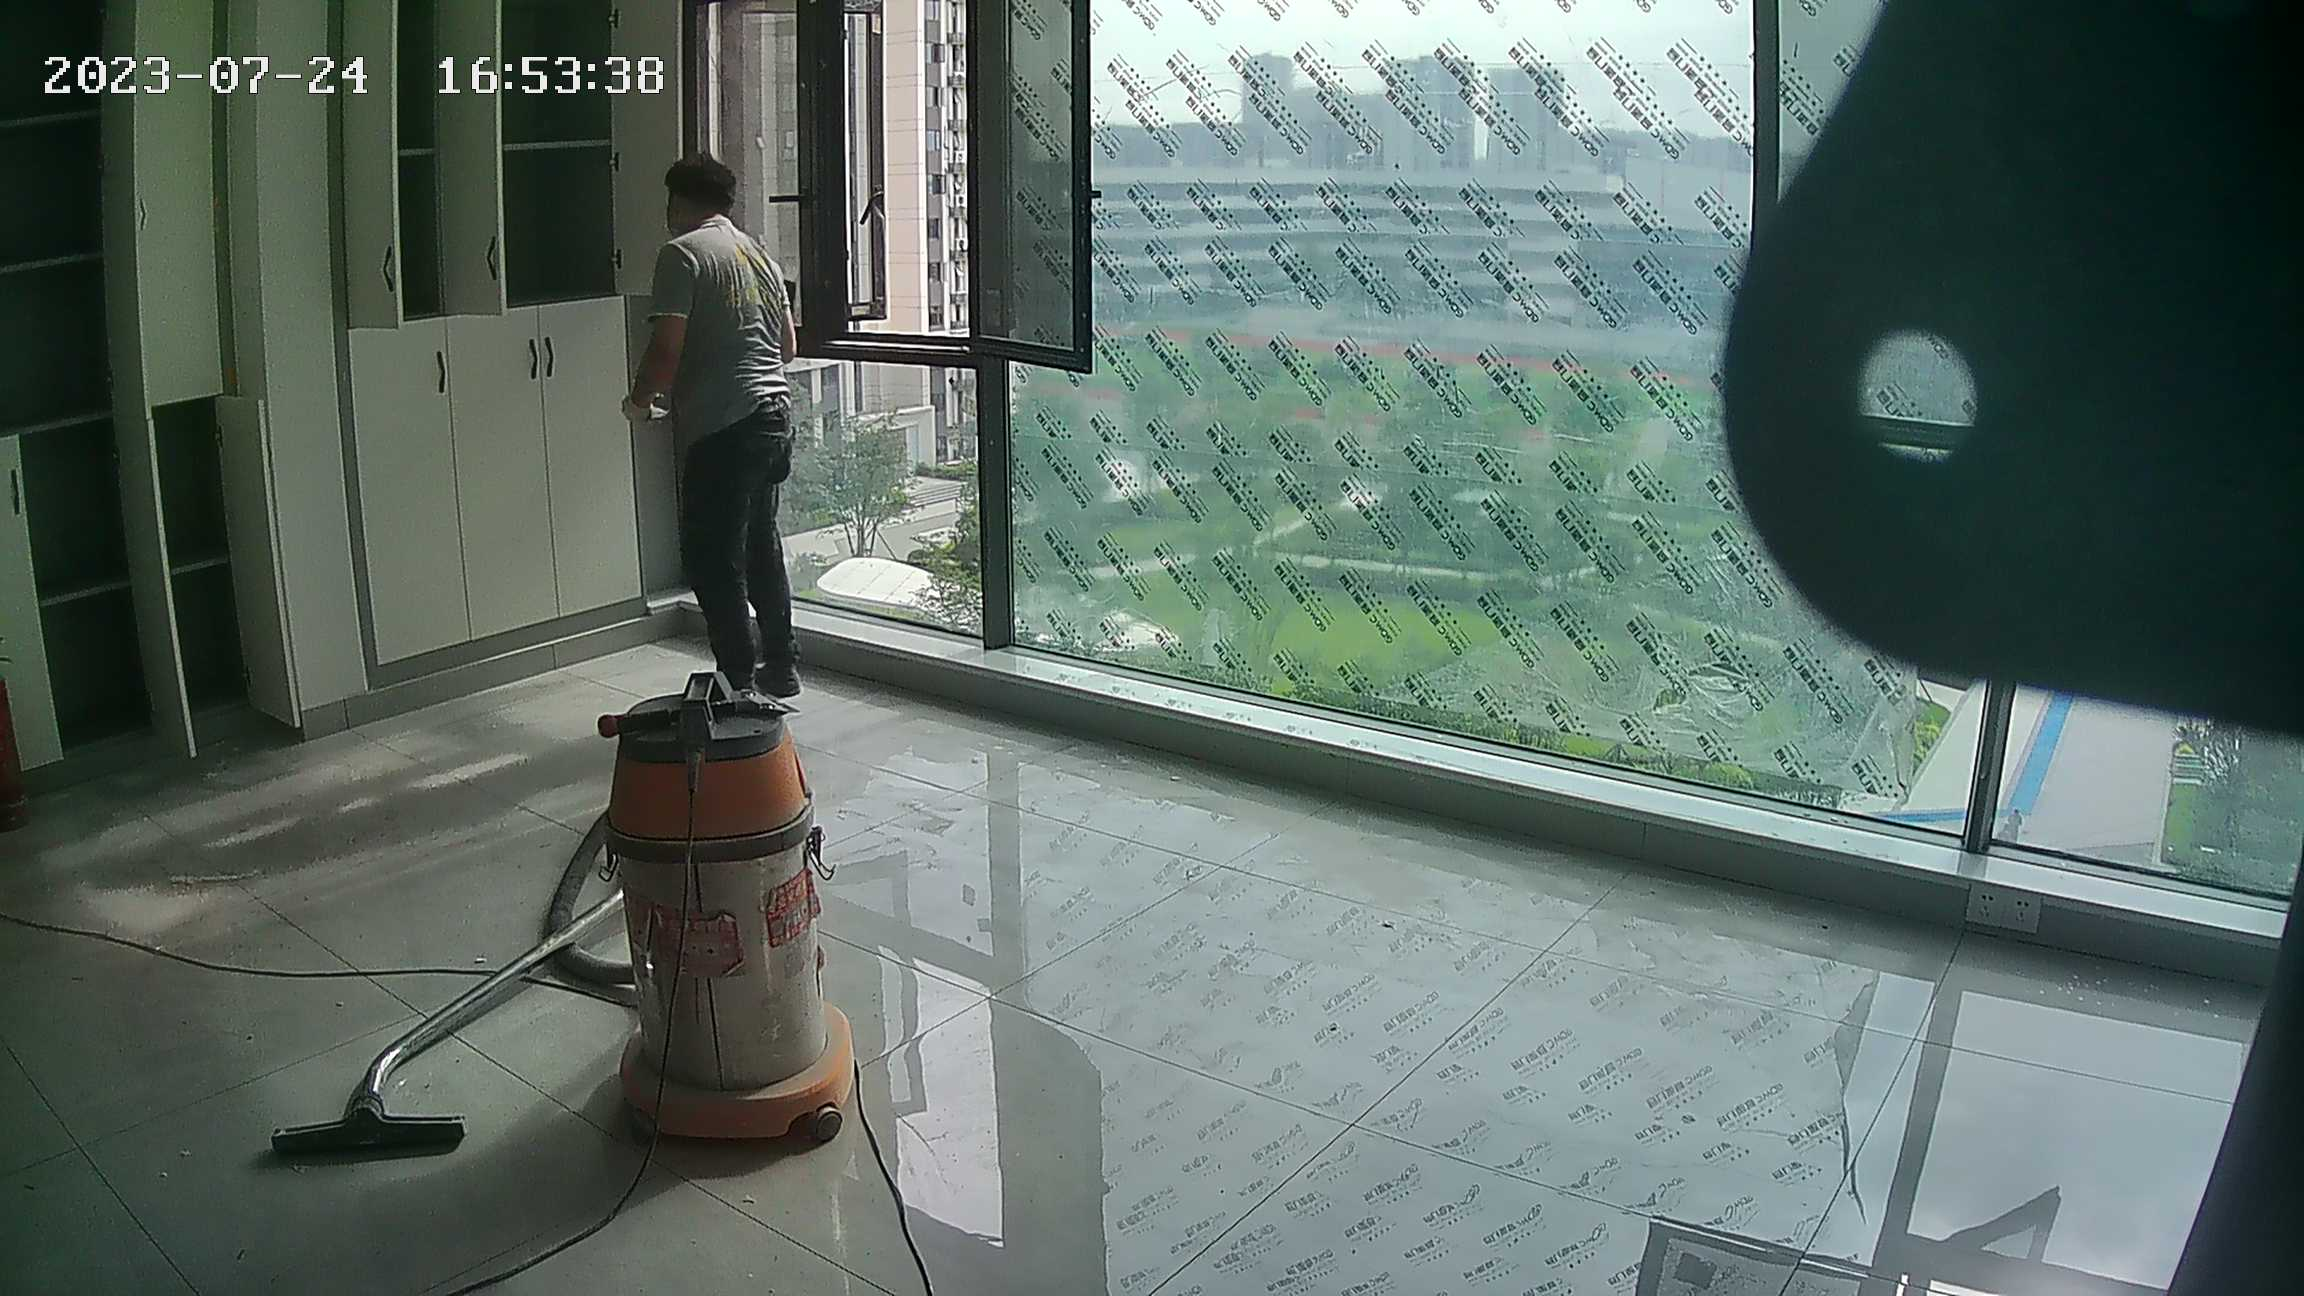people: (628, 155, 823, 717)
window: (682, 4, 2304, 877)
